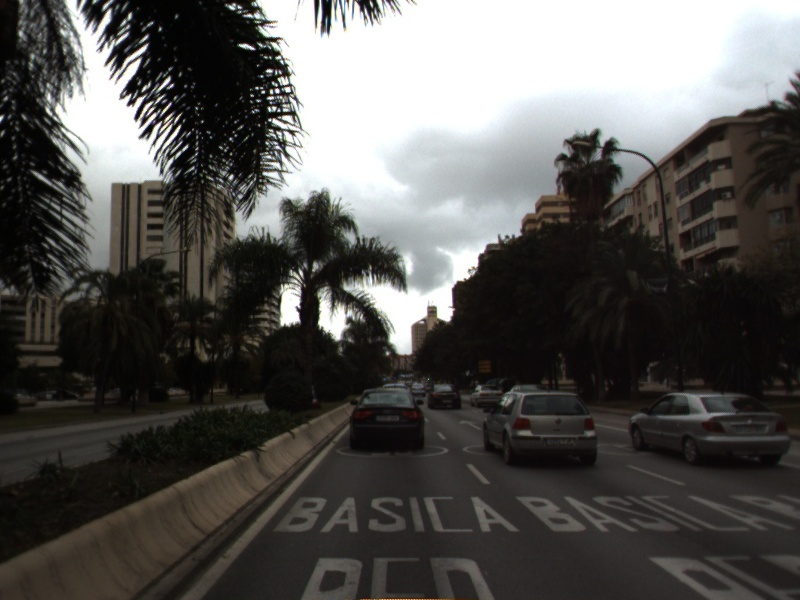STRAIGHT: (457, 417, 484, 432)
